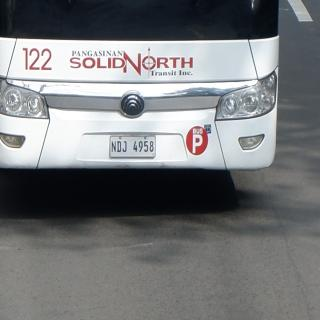license: (111, 137, 157, 159)
